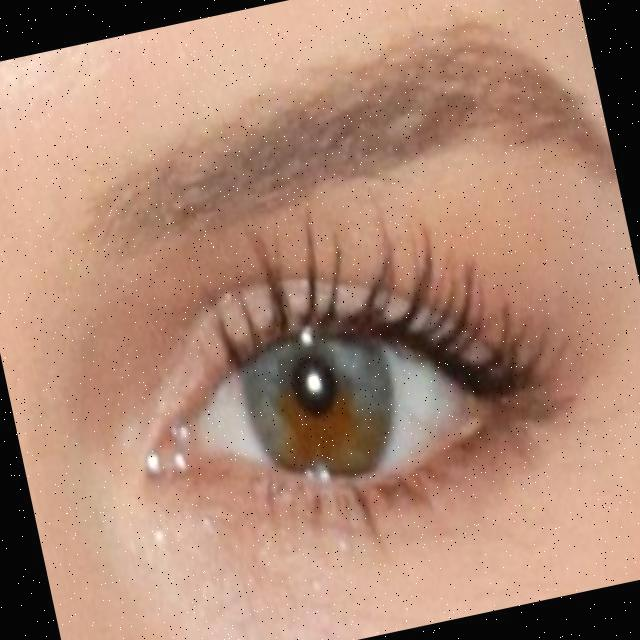Normal: (108, 223, 566, 531)
